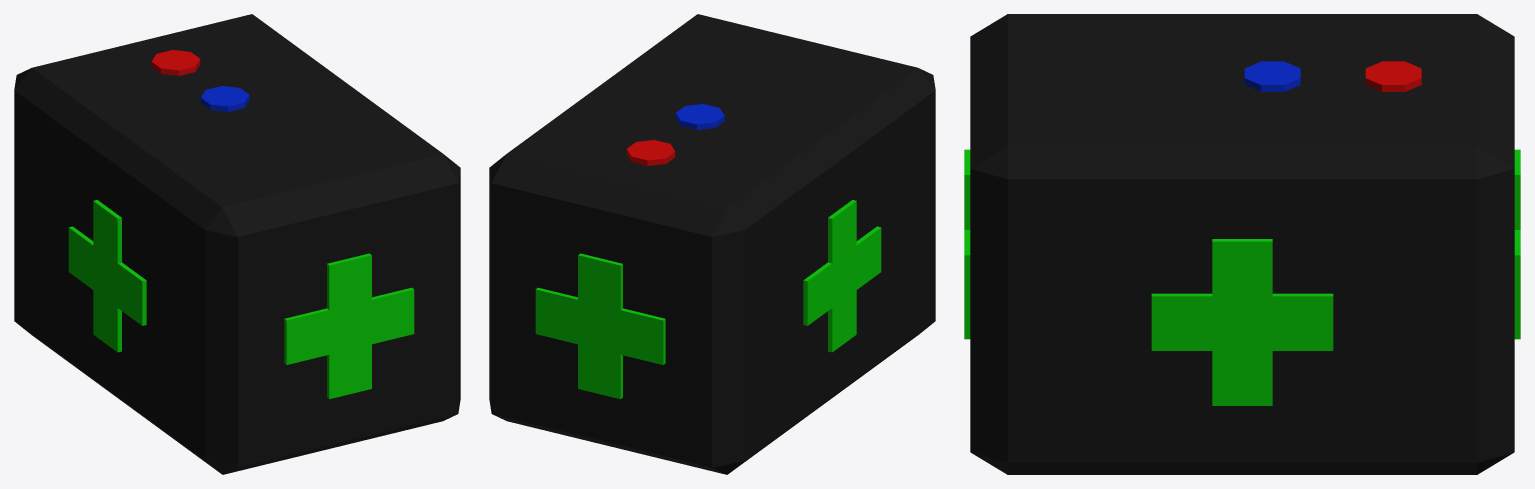
The model's file is HealthCrate.obj.
3 views of the same model, side by side, from view 1: azimuth 30°, elevation 25°; view 2: azimuth 150°, elevation 25°; view 3: azimuth 270°, elevation 25° (orthographic). The views are drawn at different scales.
Visible parts, largest first — view 1: Cube, Health002, Health001, Button1, Button2; view 2: Cube, Health003, Health001, Button1, Button2; view 3: Cube, Health, Button2, Button1, Health002, Health003.
Part boxes in pixels (left/top/right/bottom): Cube: left=14, top=14, right=460, bottom=474; Health002: left=284, top=253, right=414, bottom=399; Health001: left=68, top=200, right=146, bottom=352; Button1: left=151, top=50, right=200, bottom=75; Button2: left=200, top=86, right=249, bottom=111; Cube: left=489, top=14, right=935, bottom=474; Health003: left=535, top=253, right=665, bottom=399; Health001: left=803, top=200, right=881, bottom=352; Button1: left=626, top=140, right=675, bottom=165; Button2: left=675, top=104, right=724, bottom=129; Cube: left=970, top=14, right=1514, bottom=474; Health: left=1151, top=239, right=1333, bottom=405; Button2: left=1244, top=61, right=1300, bottom=91; Button1: left=1365, top=61, right=1421, bottom=91; Health002: left=964, top=149, right=970, bottom=339; Health003: left=1514, top=149, right=1520, bottom=339.
Bounding box in the file's own units: 1.24 × 1.23 × 1.84.
